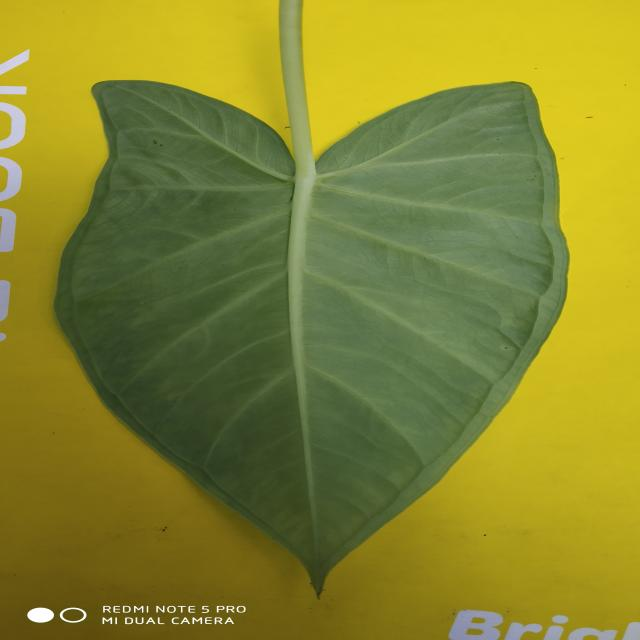taro: (56, 60, 567, 592)
